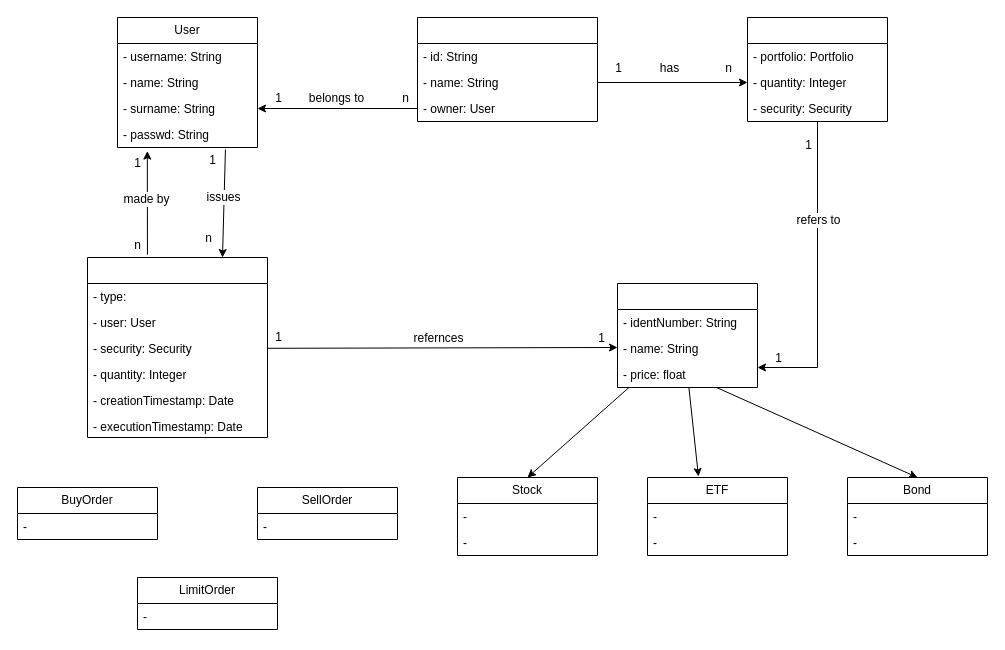
This 1005x650 diagram has some shape labels left out. Here are the shapes that lost their labels. From the top down, the box of each, then its label:
(416, 16, 598, 122): Portfolio
(746, 16, 888, 122): Position
(86, 256, 268, 438): Transaction
(616, 282, 758, 388): Security
